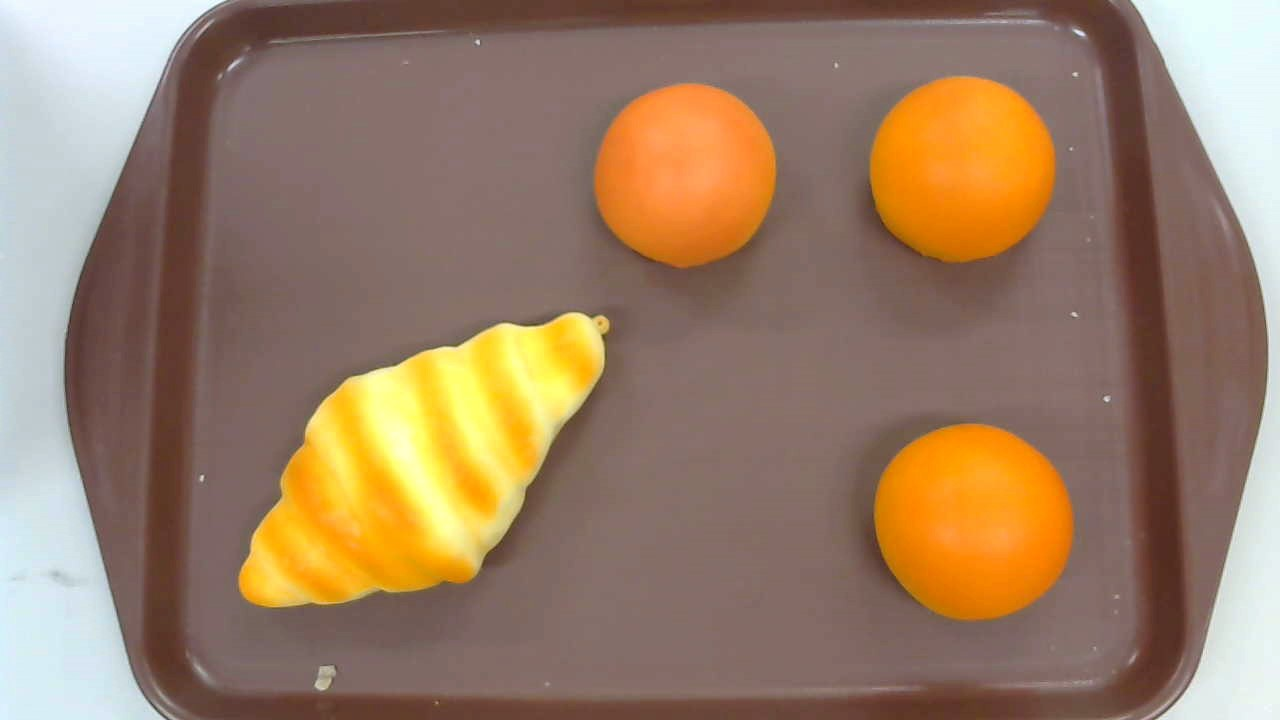bun: (872, 422, 1073, 622), (870, 73, 1056, 264), (592, 83, 777, 269)
croissant: (238, 311, 611, 609)
